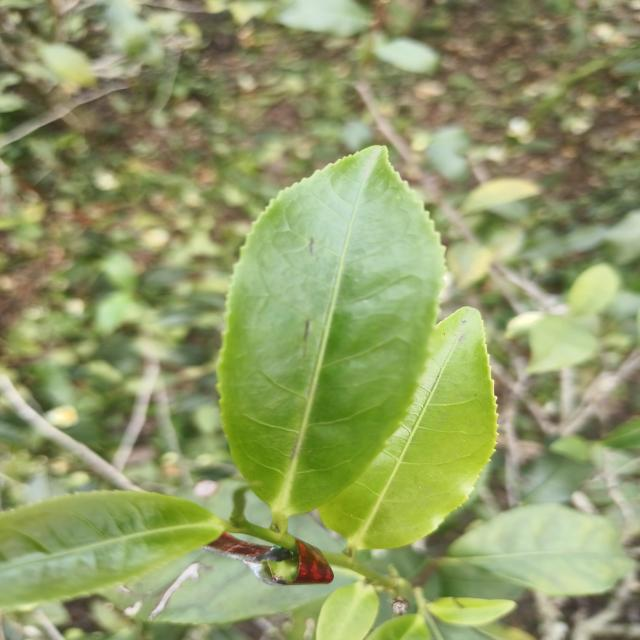Leaf: (218, 146, 444, 530), (319, 307, 497, 549), (0, 491, 224, 609), (448, 504, 632, 596), (527, 315, 597, 373), (521, 453, 592, 504), (316, 582, 378, 640), (278, 0, 369, 37), (568, 263, 620, 317), (426, 597, 516, 626), (374, 37, 438, 73)
